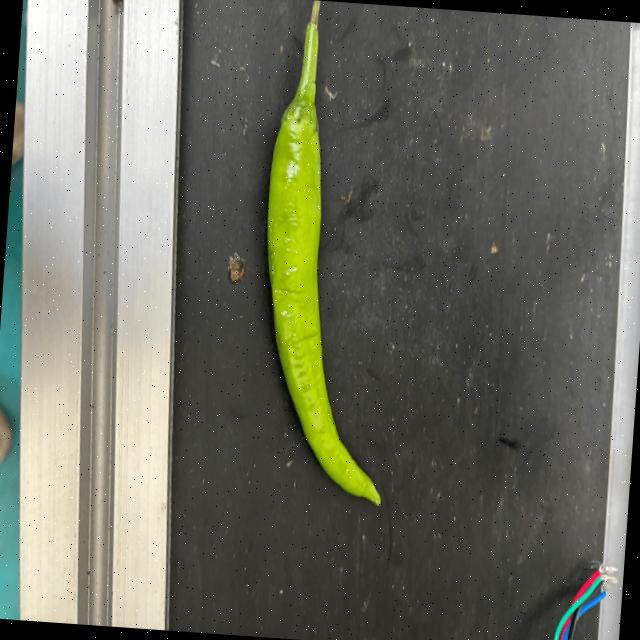chili: (263, 95, 382, 507)
